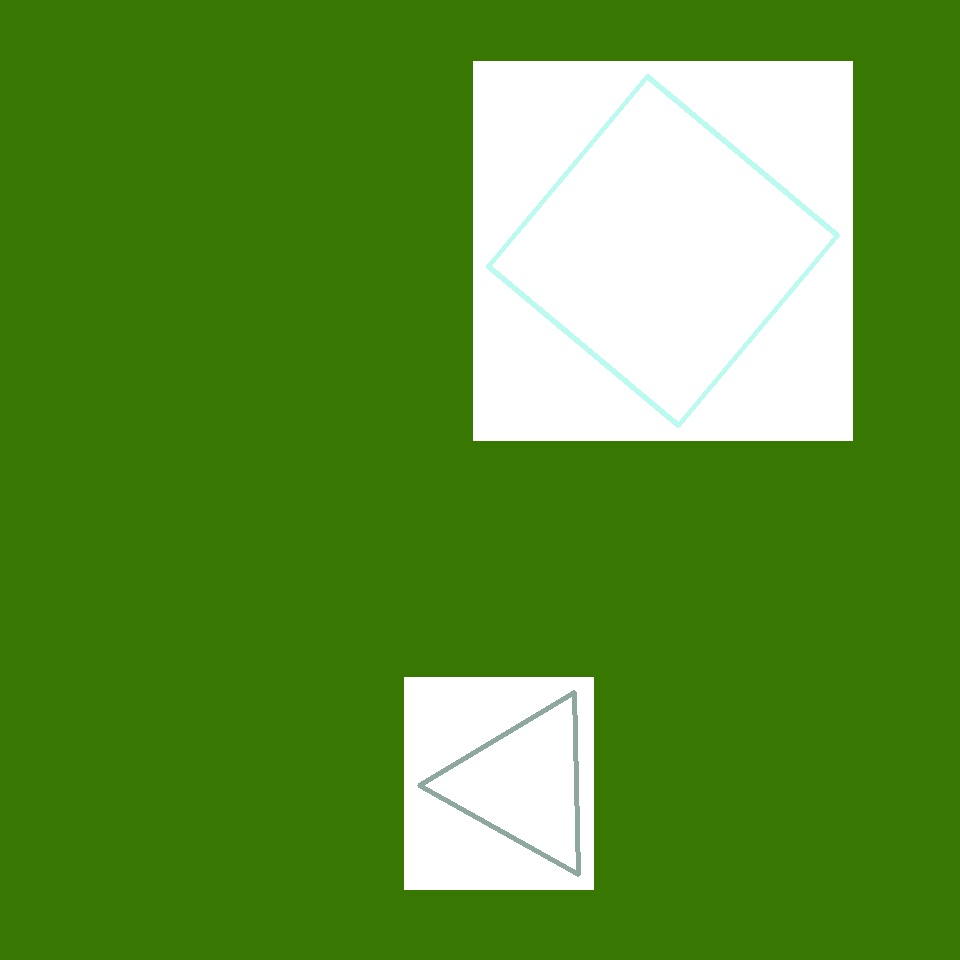circle: (661, 359, 875, 583), (120, 352, 320, 542), (301, 648, 475, 842), (444, 693, 603, 875), (762, 166, 926, 332)
square: (489, 77, 838, 426), (490, 680, 650, 840)
triangle: (580, 231, 935, 586)
